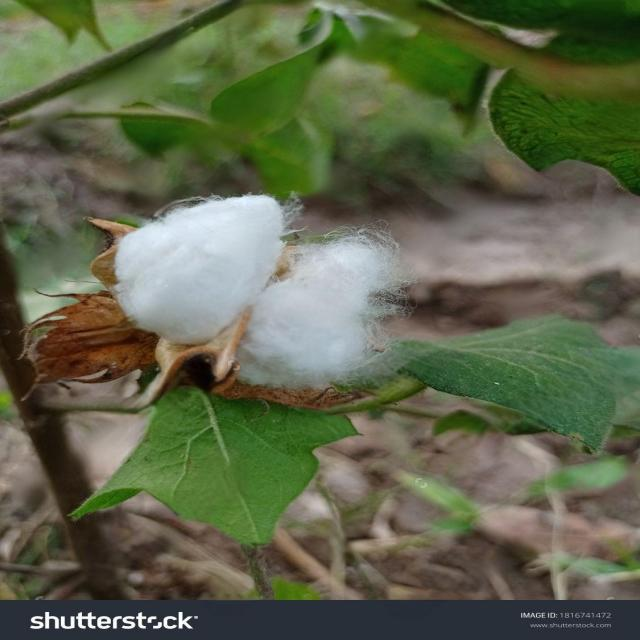Late_blight: (11, 180, 428, 423)
